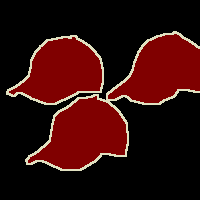hat: (26, 94, 128, 170), (107, 32, 200, 104), (6, 36, 103, 104)
